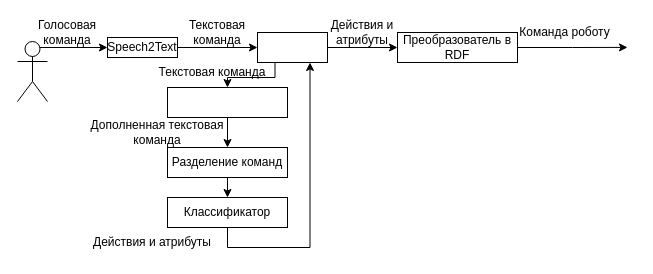
Some shapes in this 653 by 274 pixel diagram are drawn without their labels. Each missing label, with the centre of its shape:
Внешний сервис: pixel 292 47
Восстановление гэппинга: pixel 227 102
